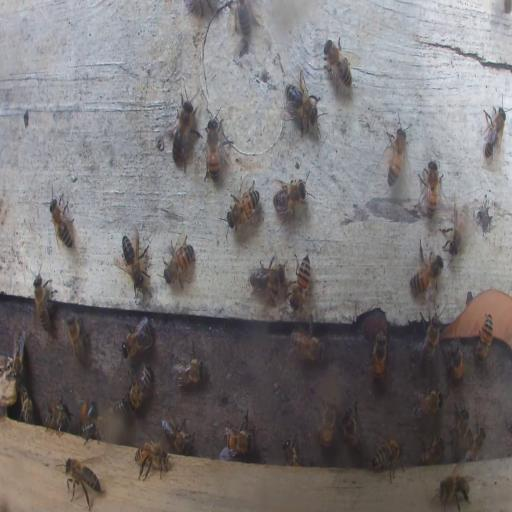nonpollenbee: (282, 70, 322, 132), (168, 93, 198, 171), (408, 240, 442, 297), (162, 233, 196, 290), (62, 456, 102, 504), (120, 229, 150, 292), (323, 35, 354, 90), (272, 176, 310, 220), (440, 200, 469, 256), (481, 104, 507, 166), (249, 253, 283, 300), (433, 472, 472, 512), (417, 308, 442, 370), (31, 267, 54, 334), (48, 192, 74, 250), (417, 160, 443, 218), (371, 435, 403, 481), (386, 118, 407, 188), (221, 416, 254, 459), (134, 438, 168, 479), (228, 187, 260, 230), (122, 315, 154, 356), (290, 252, 312, 311), (162, 415, 194, 453), (126, 364, 153, 409), (340, 403, 363, 455), (171, 352, 204, 388), (411, 383, 443, 419), (67, 313, 89, 364), (289, 332, 325, 363), (370, 331, 388, 383), (417, 432, 446, 464), (206, 118, 220, 184), (444, 339, 464, 384), (318, 400, 336, 450), (463, 423, 486, 461), (476, 314, 494, 362), (46, 400, 70, 435), (237, 1, 253, 48), (10, 330, 25, 376), (454, 407, 470, 448), (282, 438, 302, 467), (18, 385, 33, 422), (82, 417, 103, 442)
pollenbee: (80, 398, 98, 433)
